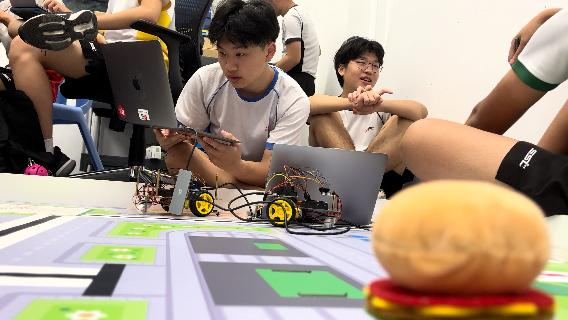burger: (365, 178, 555, 320)
